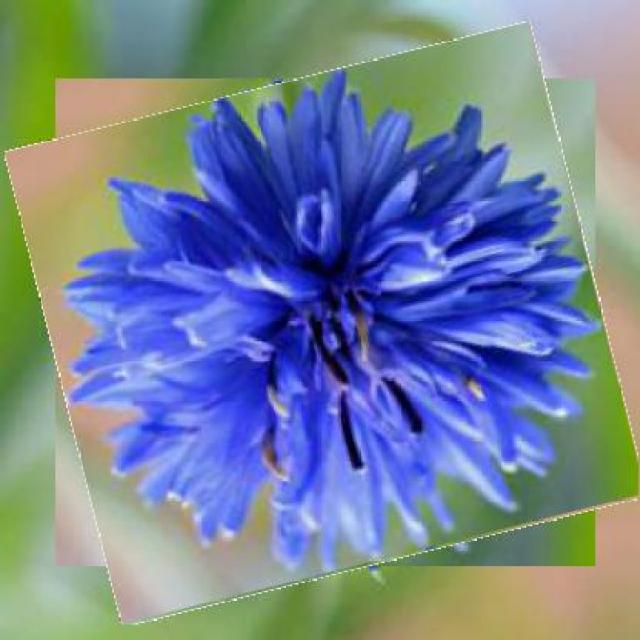Flower: (30, 50, 622, 598)
